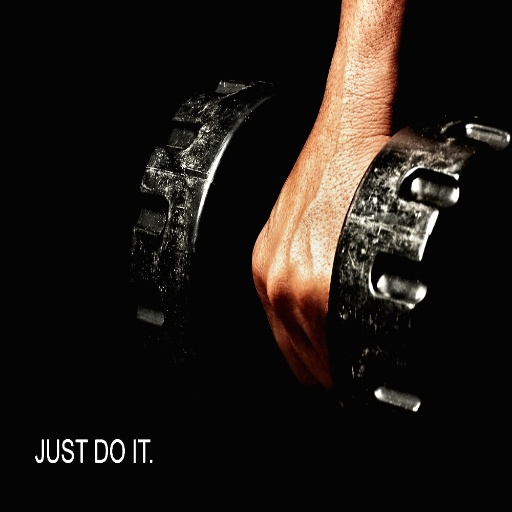hand: (261, 1, 403, 412)
